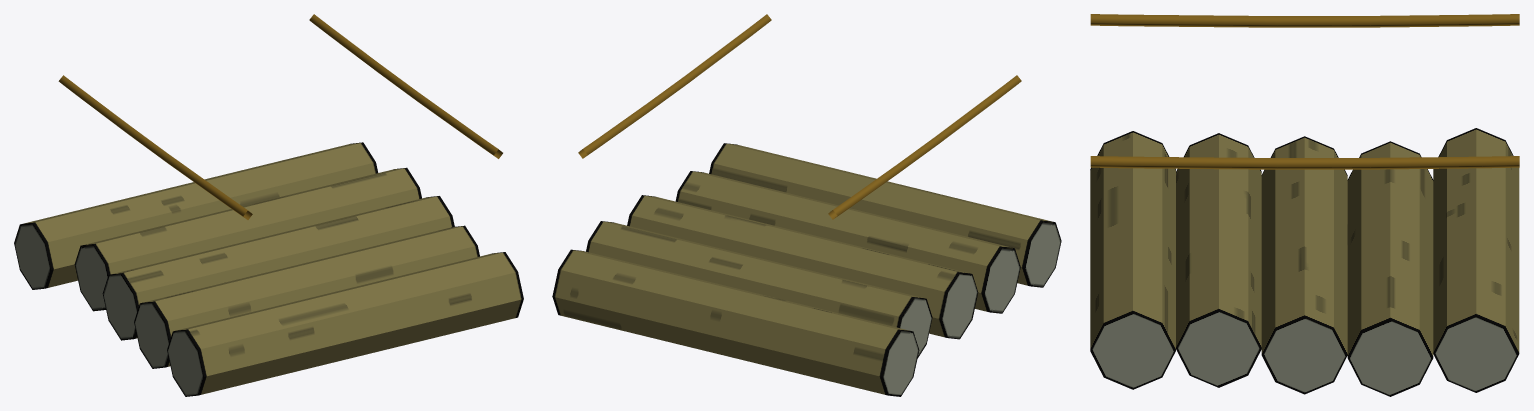
Rendered from Bridge_Mid2.glb.
3 views of the same model, side by side, from view 1: azimuth 30°, elevation 25°; view 2: azimuth 150°, elevation 25°; view 3: azimuth 270°, elevation 25° (orthographic). The views are drawn at different scales.
Visible parts, largest first — view 1: Bridge_Mid2; view 2: Bridge_Mid2; view 3: Bridge_Mid2.
Boxes of the visible parts, x1,y1,x2,y2 form: Bridge_Mid2: (14, 14, 523, 396); Bridge_Mid2: (552, 14, 1061, 396); Bridge_Mid2: (1090, 14, 1519, 396).
Bounding box in the file's own units: 2.11 × 1.13 × 2.
1 material, 1 textured.
